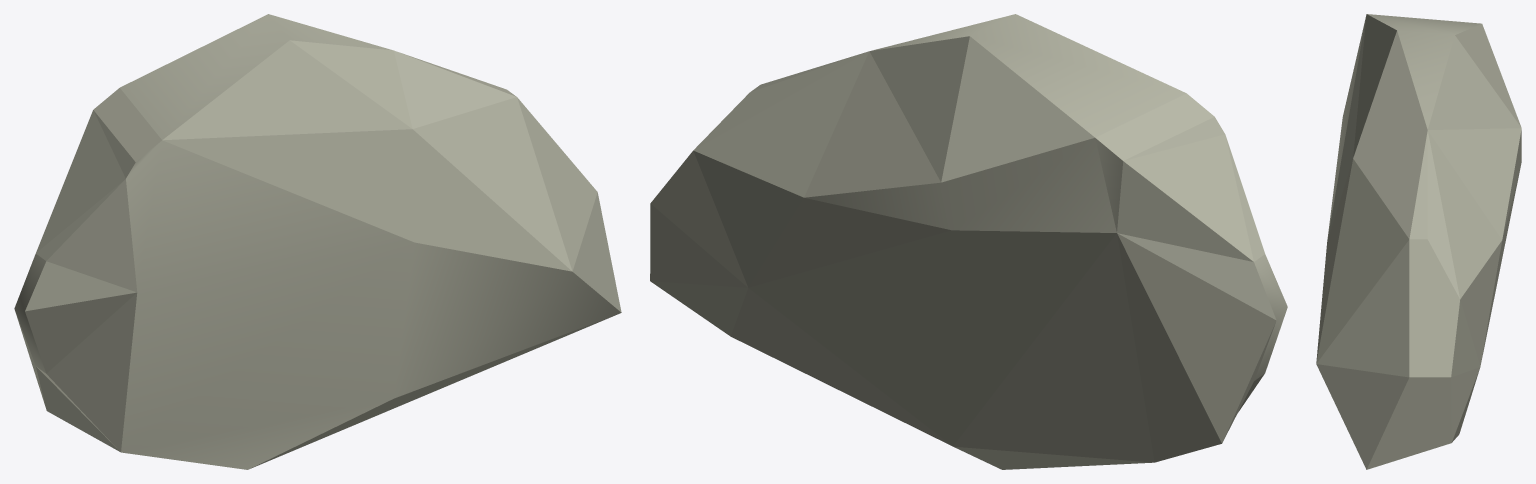
Rendered from Cave Roof 01.FBX.
3 renders of one model, left to right at view 1: azimuth 30°, elevation 25°; view 2: azimuth 150°, elevation 25°; view 3: azimuth 270°, elevation 25°, orthographic. The views are drawn at different scales.
Parts seen in each view (by area): view 1: Cave Roof 01; view 2: Cave Roof 01; view 3: Cave Roof 01.
Boxes of the visible parts, <box> form: Cave Roof 01: <box>14,14,621,469</box>; Cave Roof 01: <box>650,14,1287,469</box>; Cave Roof 01: <box>1316,14,1521,469</box>.
Bounding box in the file's own units: 609 × 425 × 210.
